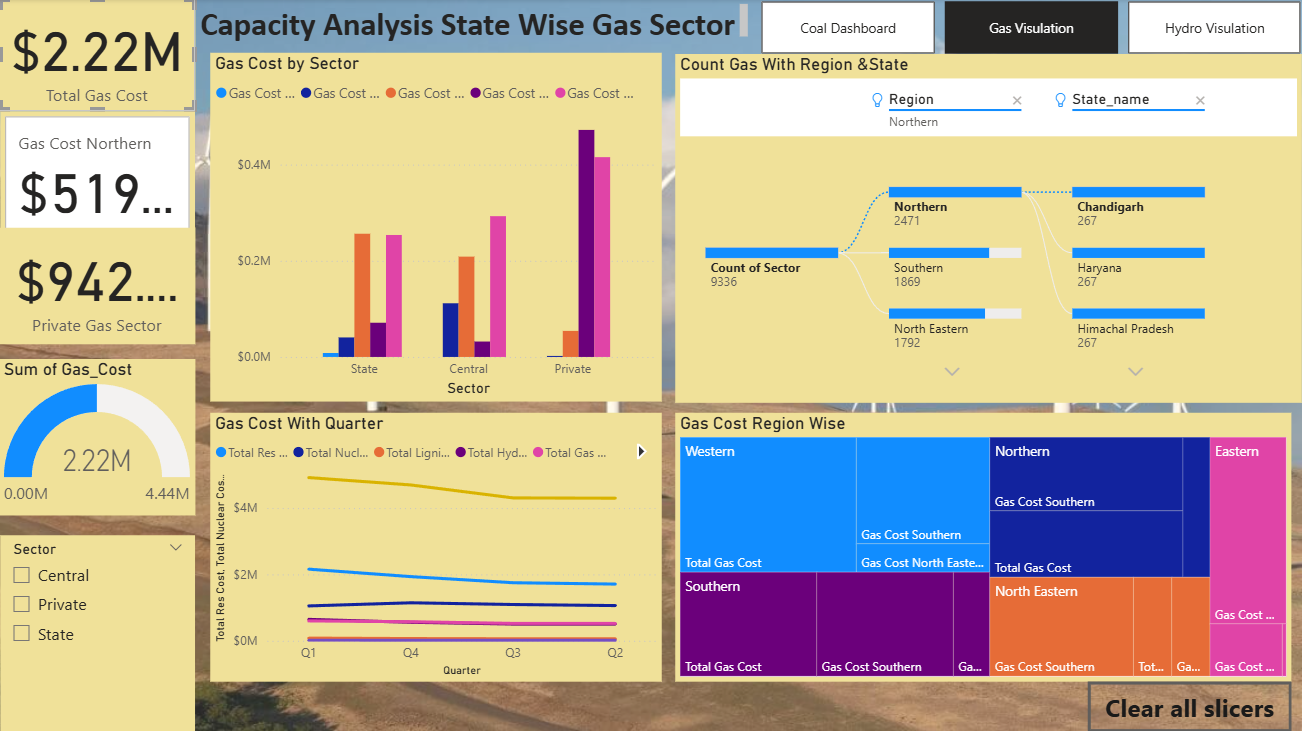

What the dashboard file says about the page in this screenshot:
{"tool":"powerbi","page":{"name":"Gas Visulation","canvas":[1280,720],"ordinal":8},"visuals":[{"type":"lineClusteredColumnComboChart","title":"Gas  Cost by Sector","fields":{"Category":["Capacity Statewise.Sector"],"Y":["Capacity Statewise.Gas Cost Eastern","Capacity Statewise.Gas Cost North Eastern","Capacity Statewise.Gas Cost Northern","Capacity Statewise.Gas Cost Southern","Capacity Statewise.Gas Cost Western"]},"box":[207.4,52.8,442.9,342.3],"z":0},{"type":"decompositionTreeVisual","title":"Count Gas With Region &State","fields":{"ExplainBy":["Capacity Statewise.Region","Capacity Statewise.State_name"],"Analyze":["CountNonNull(Capacity Statewise.Sector)"]},"box":[663.8,54,616,342.3],"z":1000},{"type":"lineChart","title":"Gas Cost With Quarter","fields":{"Category":["Calendar.Quarter"],"Y":["Capacity Statewise.Total Res Cost","Capacity Statewise.Total Nuclear Cost","Capacity Statewise.Total Lignite Cost","Capacity Statewise.Total Hydro Cost","Capacity Statewise.Total Gas Cost","Capacity Statewise.Total Disel Cost","Capacity Statewise.Total Coal Cost"]},"box":[207.4,406.1,442.9,263.8],"z":2000},{"type":"treemap","title":"Gas Cost Region Wise","fields":{"Group":["Capacity Statewise.Region","Capacity Statewise.Sector"],"Values":["Capacity Statewise.Total Gas Cost","Capacity Statewise.Gas Cost Southern","Capacity Statewise.Gas Cost North Eastern"]},"box":[663.8,406.1,604.9,263.8],"z":3000},{"type":"slicer","fields":{"Values":["Capacity Statewise.Sector"]},"box":[1.2,526.4,191.4,193.9],"z":4000},{"type":"textbox","box":[192.6,0,547.2,52.8],"z":5000},{"type":"pageNavigator","box":[748.5,2.5,531.3,51.5],"z":6000},{"type":"actionButton","box":[1068.6,670.2,200.3,49.8],"z":7000},{"type":"card","fields":{"Values":["installed-capacity-statewise (1.Total Gas Cost"]},"box":[0,0,192.6,110.4],"z":8000},{"type":"cardVisual","fields":{"Data":["Capacity Statewise.Gas Cost Northern"]},"box":[1.2,110.4,191.4,127.6],"z":9000},{"type":"card","fields":{"Values":["Capacity Statewise.Private Gas Sector"]},"box":[0,224.5,192.6,114.1],"z":10000},{"type":"gauge","fields":{"Y":["Sum(Capacity Statewise.Gas_Cost)"]},"box":[0,353.4,192.6,153.4],"z":11000}]}

Visuals, with their boxes in screenshot pixels (x1, y1, x2, y2), scaled from the page's 1280x720 canvas onto the 1302x731 screenshot:
"Gas  Cost by Sector" lineClusteredColumnComboChart: crop(211, 54, 661, 401)
"Count Gas With Region &State" decompositionTreeVisual: crop(675, 55, 1301, 402)
"Gas Cost With Quarter" lineChart: crop(211, 412, 661, 680)
"Gas Cost Region Wise" treemap: crop(675, 412, 1291, 680)
slicer - Capacity Statewise.Sector: crop(1, 534, 196, 730)
textbox: crop(196, 0, 753, 54)
pageNavigator: crop(761, 3, 1301, 55)
actionButton: crop(1087, 680, 1291, 730)
card - installed-capacity-statewise (1.Total Gas Cost: crop(0, 0, 196, 112)
cardVisual - Capacity Statewise.Gas Cost Northern: crop(1, 112, 196, 242)
card - Capacity Statewise.Private Gas Sector: crop(0, 228, 196, 344)
gauge - Sum(Capacity Statewise.Gas_Cost): crop(0, 359, 196, 515)
